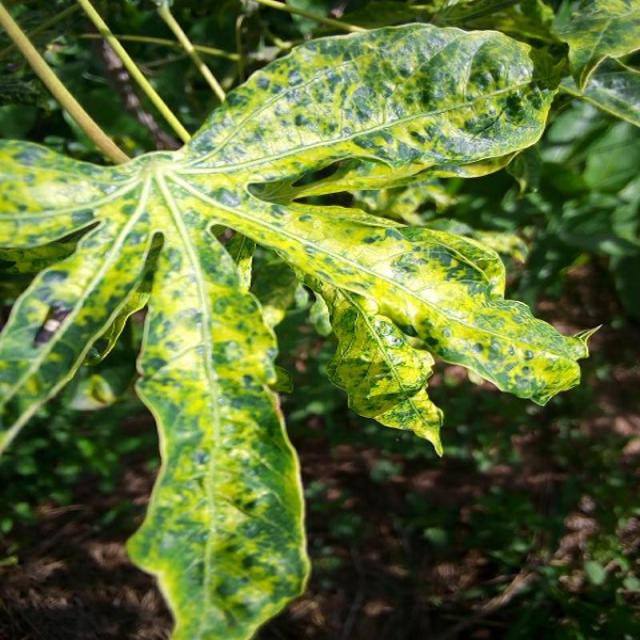cassava leaf: (0, 18, 601, 638)
